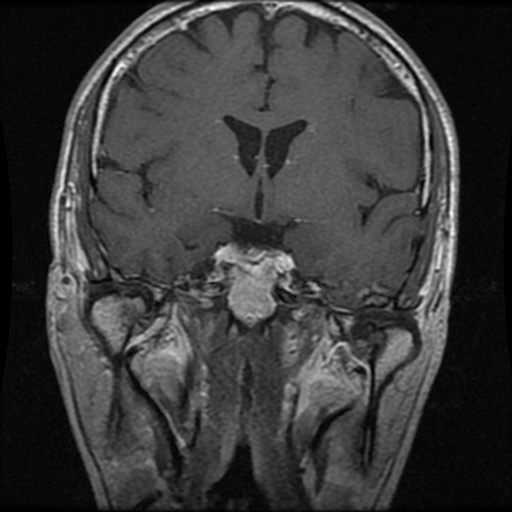pituitary: (216, 244, 280, 263)
